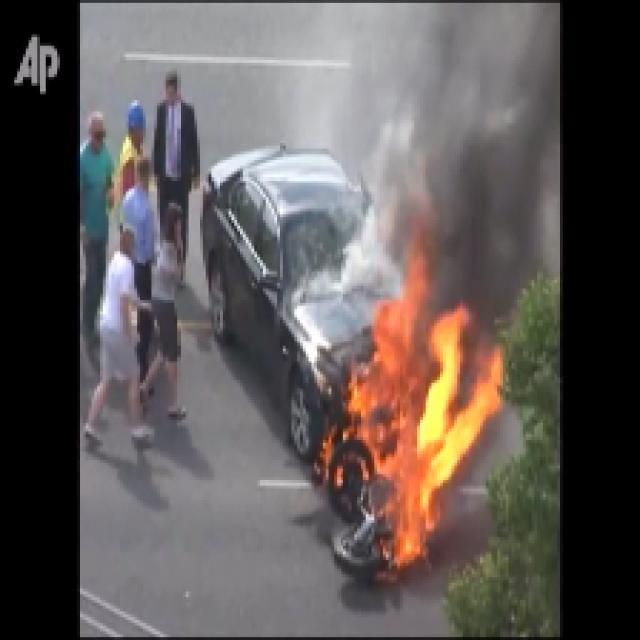Fire: (336, 329, 488, 541)
Smoke: (380, 63, 550, 274)
